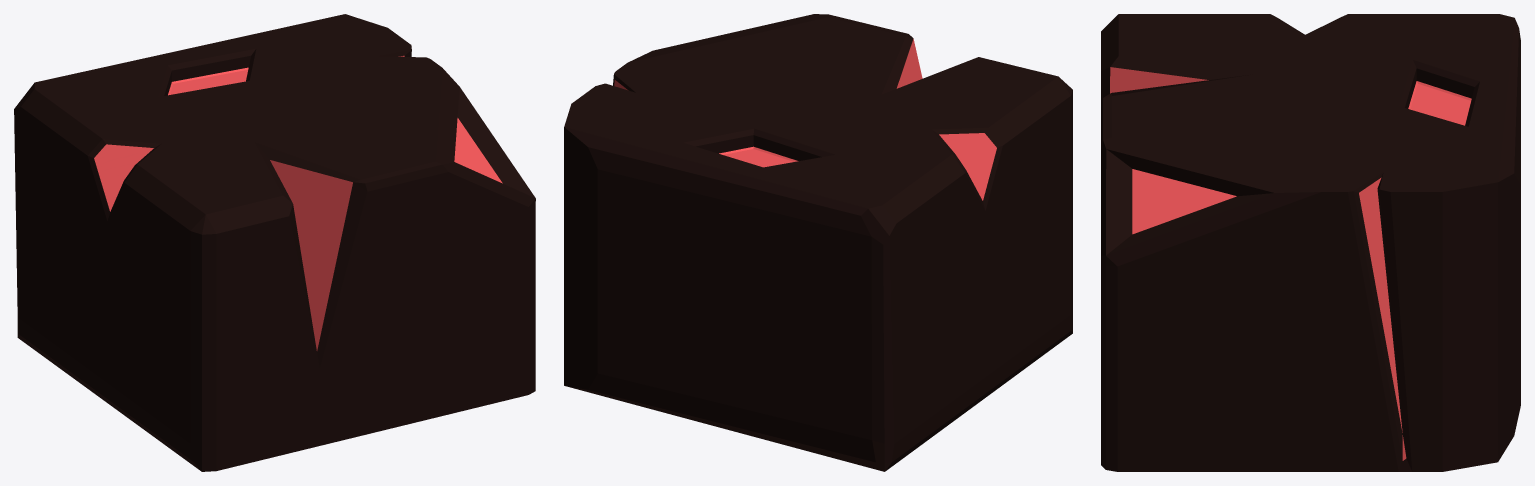
3 views of the same model, side by side, from view 1: azimuth 30°, elevation 25°; view 2: azimuth 150°, elevation 25°; view 3: azimuth 270°, elevation 25° (orthographic). The views are drawn at different scales.
Parts seen in each view (by area): view 1: Cube; view 2: Cube; view 3: Cube.
Part boxes in pixels (left/top/right/bottom): Cube: left=14, top=14, right=535, bottom=471; Cube: left=564, top=14, right=1072, bottom=471; Cube: left=1101, top=14, right=1520, bottom=471.
Size of the model in its own units: 209 by 147 by 200.
